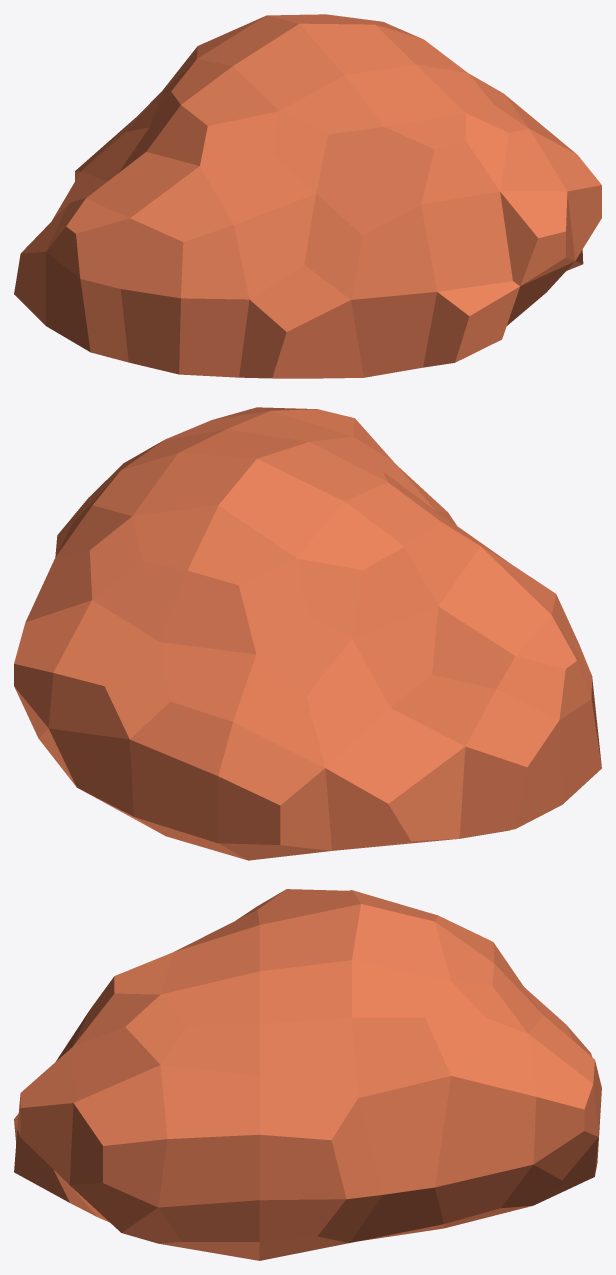
Rendered from Rock_V05.fbx.
3 renders of one model, top to bottom at view 1: azimuth 30°, elevation 25°; view 2: azimuth 150°, elevation 25°; view 3: azimuth 270°, elevation 25°, orthographic. The views are drawn at different scales.
Parts seen in each view (by area): view 1: Rock_V05; view 2: Rock_V05; view 3: Rock_V05.
Boxes of the visible parts, x1,y1,x2,y2 form: Rock_V05: [14, 14, 601, 378]; Rock_V05: [14, 407, 601, 860]; Rock_V05: [14, 889, 601, 1260].
Size of the model in its own units: 355 by 211 by 356.
